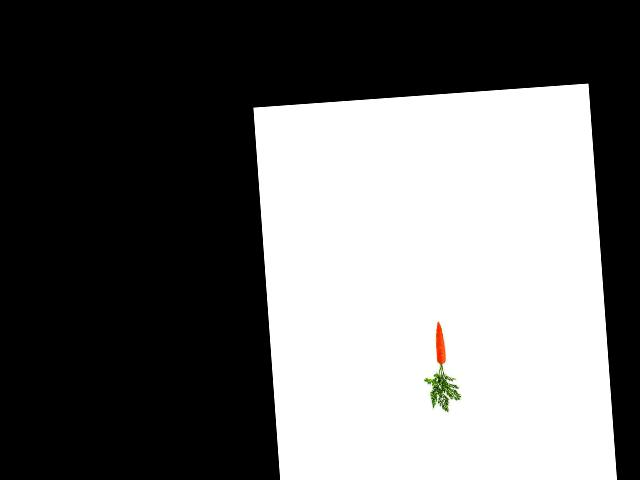carrot: (431, 319, 446, 365)
